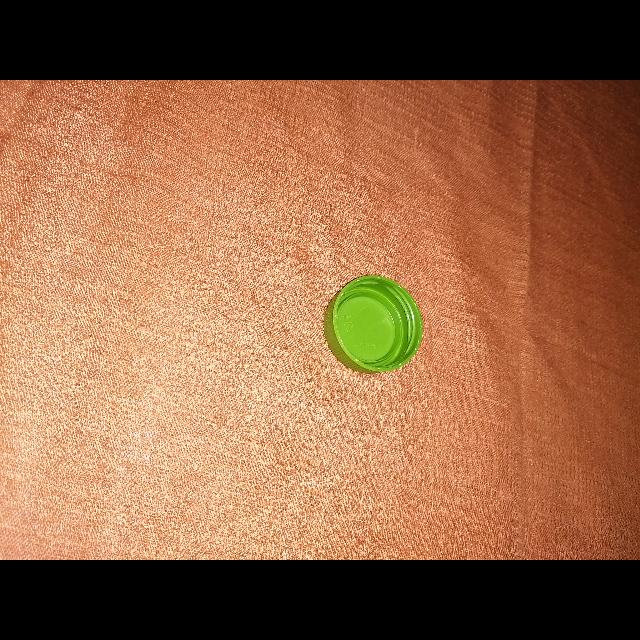plastic_bottle_cap: (323, 274, 422, 374)
